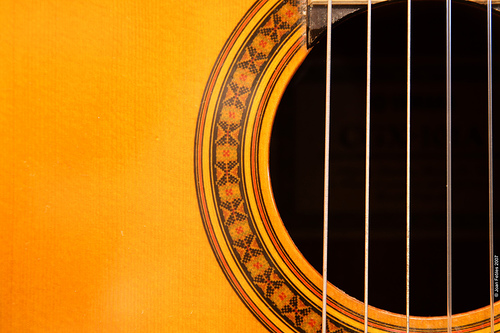guitar: (1, 1, 500, 333)
